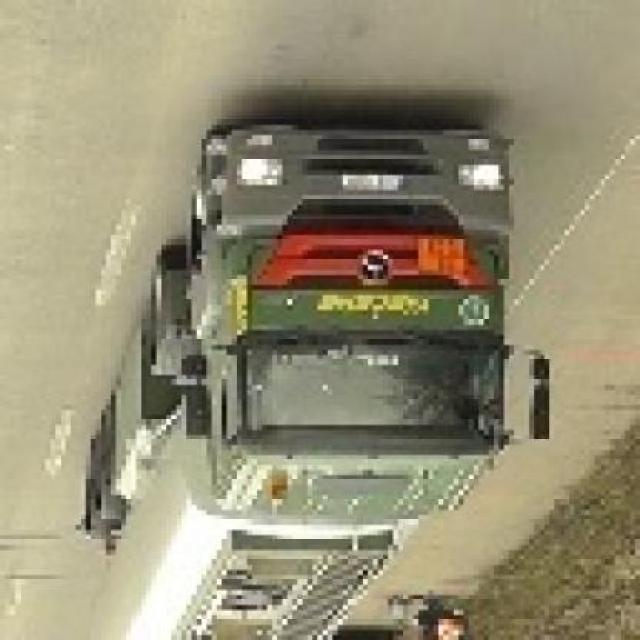truck: (77, 116, 551, 640)
